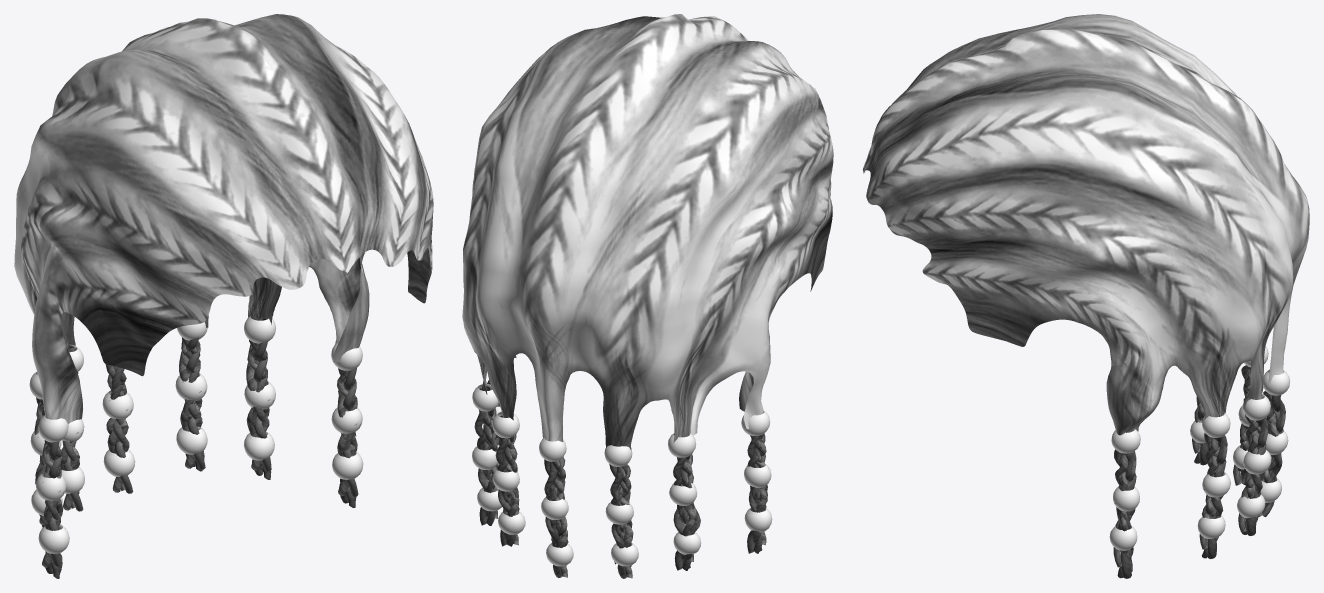
File: hair_cornrows_f_dark.glb
The picture shows the model from 3 angles, left to right: view 1: azimuth 30°, elevation 25°; view 2: azimuth 150°, elevation 25°; view 3: azimuth 270°, elevation 25°; orthographic projection. The views are drawn at different scales.
Visible parts, largest first — view 1: haircards; view 2: haircards; view 3: haircards.
Part boxes in pixels (left/top/right/bottom): haircards: left=14, top=14, right=433, bottom=578; haircards: left=462, top=14, right=833, bottom=578; haircards: left=863, top=14, right=1309, bottom=578.
Bounding box in the file's own units: 0.1613 × 0.2444 × 0.2034.
Materials: 1 (1 with a texture image).
